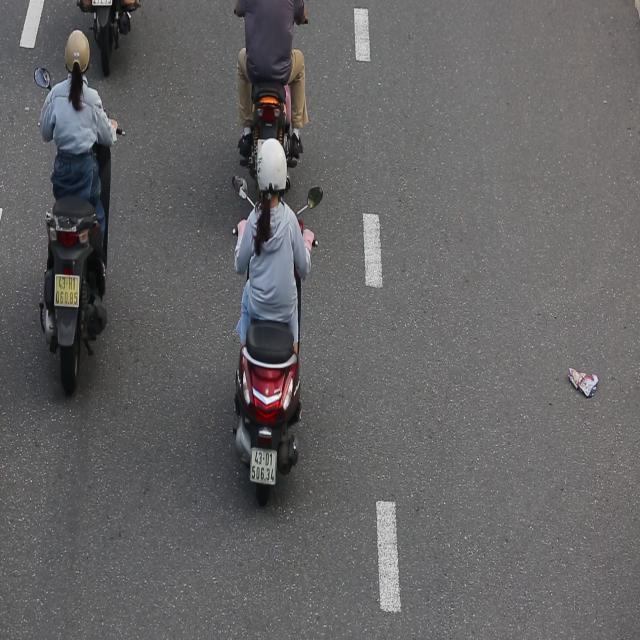motorbike: (224, 126, 329, 531), (24, 27, 130, 415)
